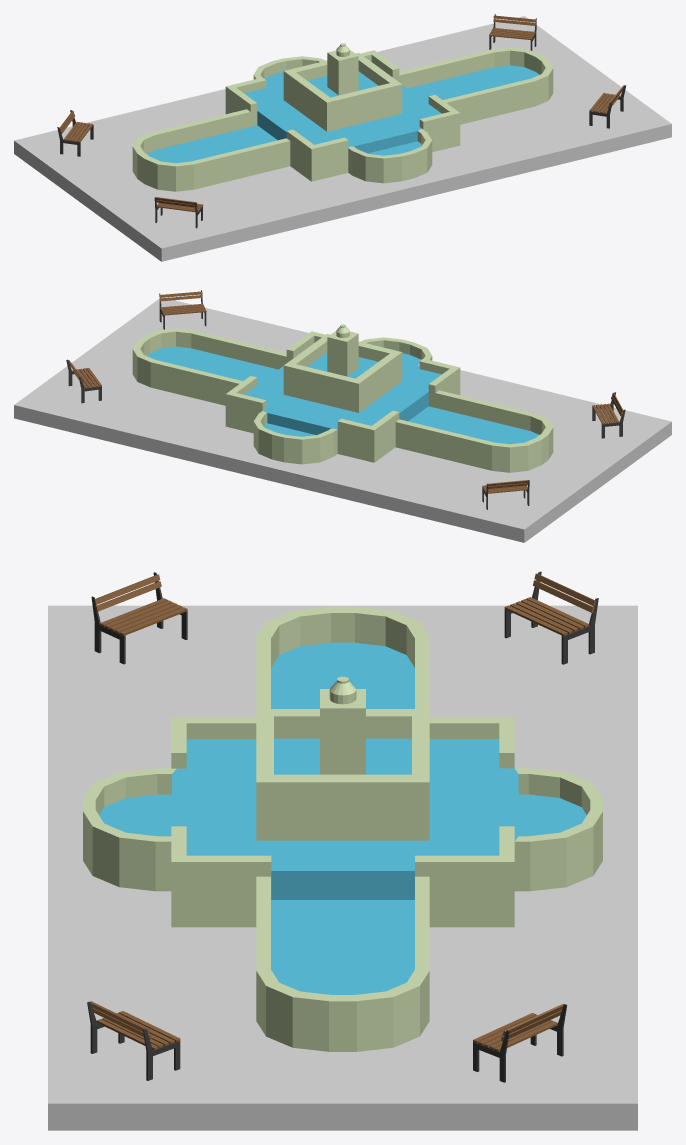
The model's file is Fontana.gltf.
3 renders of one model, top to bottom at view 1: azimuth 30°, elevation 25°; view 2: azimuth 150°, elevation 25°; view 3: azimuth 270°, elevation 25°, orthographic. The views are drawn at different scales.
Visible parts, largest first — view 1: Baza 1x1.004, Plane.001, klupice.009; view 2: Baza 1x1.004, Plane.001, klupice.009; view 3: Baza 1x1.004, Plane.001, klupice.009.
Boxes of the visible parts, box(x1,y1,x2,y2) form: Baza 1x1.004: box(14, 16, 671, 261); Plane.001: box(132, 43, 553, 191); klupice.009: box(57, 14, 626, 228); Baza 1x1.004: box(14, 297, 671, 542); Plane.001: box(132, 324, 553, 472); klupice.009: box(66, 290, 625, 509); Baza 1x1.004: box(48, 605, 637, 1130); Plane.001: box(83, 606, 602, 1051); klupice.009: box(87, 571, 598, 1082).
Size of the model in its own units: 4 by 0.7567 by 2.
